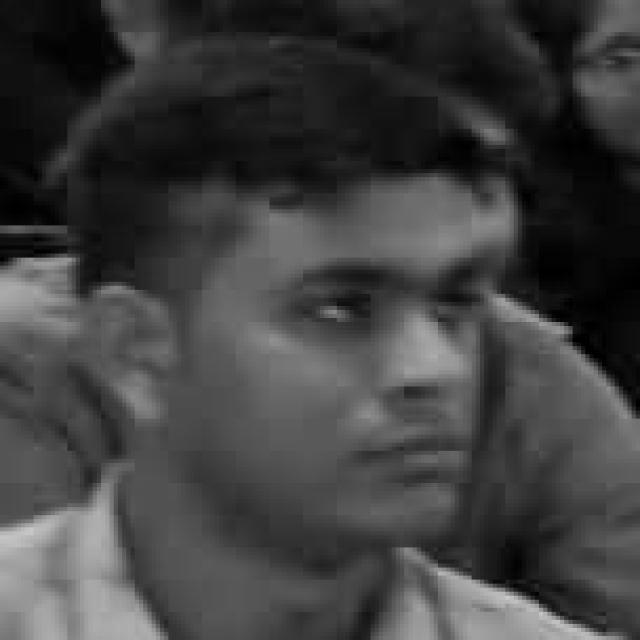Looking forward: (187, 172, 493, 556)
